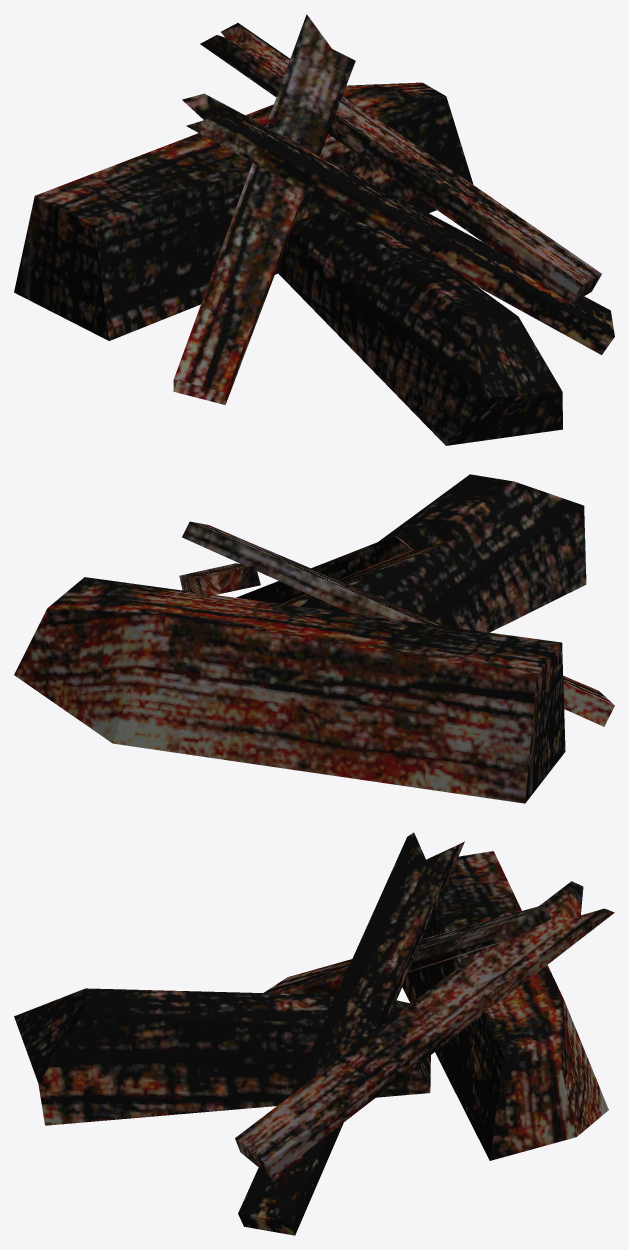
File: Firepit.fbx
The picture shows the model from 3 angles, top to bottom: view 1: azimuth 30°, elevation 25°; view 2: azimuth 150°, elevation 25°; view 3: azimuth 270°, elevation 25°; orthographic projection. The views are drawn at different scales.
Visible parts, largest first — view 1: mesh_2.402; view 2: mesh_2.402; view 3: mesh_2.402.
Part boxes in pixels (box(x1,y1,x2,y2)): mesh_2.402: box(14, 14, 614, 445); mesh_2.402: box(14, 474, 614, 803); mesh_2.402: box(14, 832, 614, 1235).
Size of the model in its own units: 0.3291 by 0.1735 by 0.3703.
